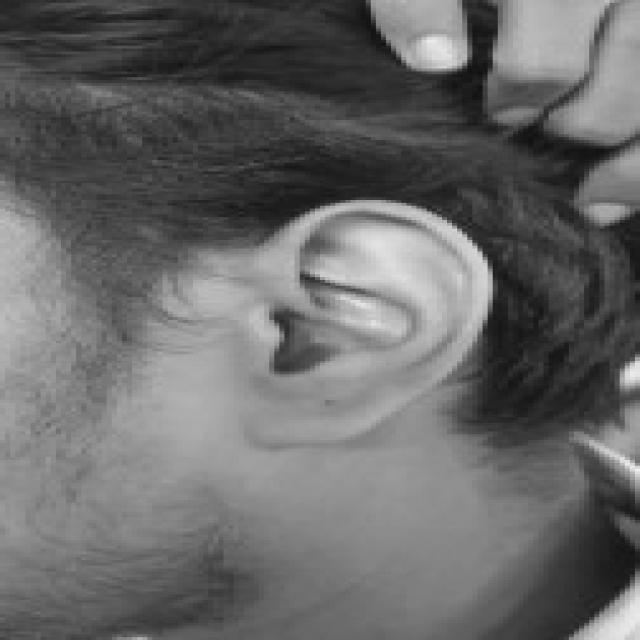ear: (239, 200, 483, 440)
